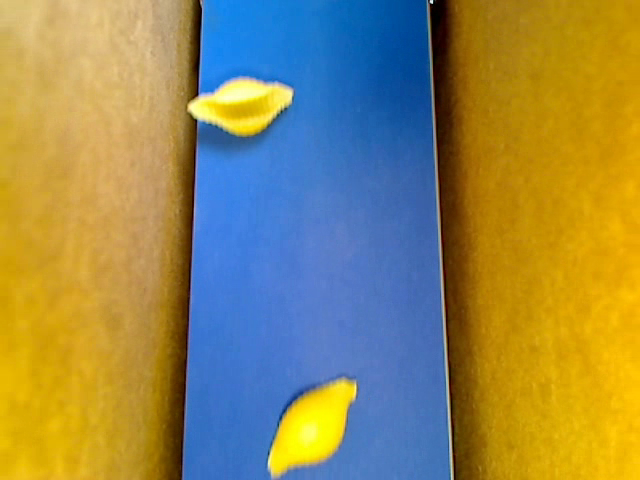shell: (265, 377, 357, 478), (186, 74, 293, 137)
